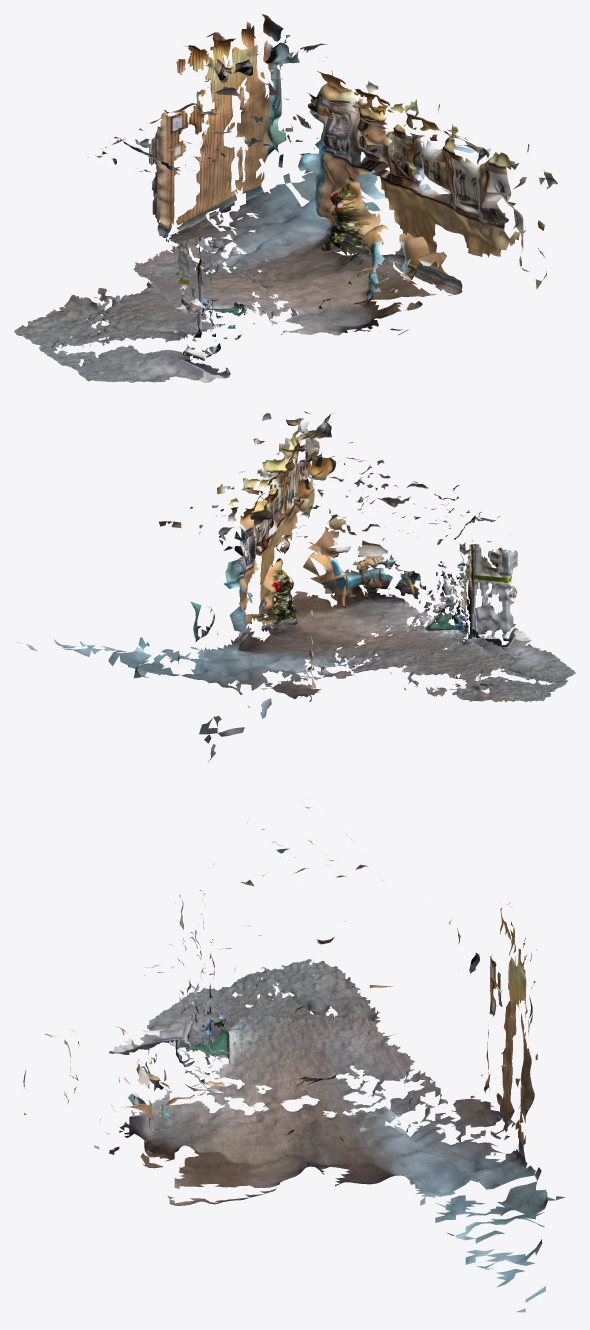
File: 138618-O2-tex.glb
3 renders of one model, top to bottom at view 1: azimuth 30°, elevation 25°; view 2: azimuth 150°, elevation 25°; view 3: azimuth 270°, elevation 25°, orthographic. The views are drawn at different scales.
Visible parts, largest first — view 1: Node; view 2: Node; view 3: Node.
Boxes of the visible parts, x1=… form: Node: x1=14, y1=14, x2=557, y2=382; Node: x1=16, y1=411, x2=575, y2=762; Node: x1=23, y1=807, x2=565, y2=1312.
Size of the model in its own units: 10.06 by 5.14 by 7.07.
Materials: 9 (9 with a texture image).
